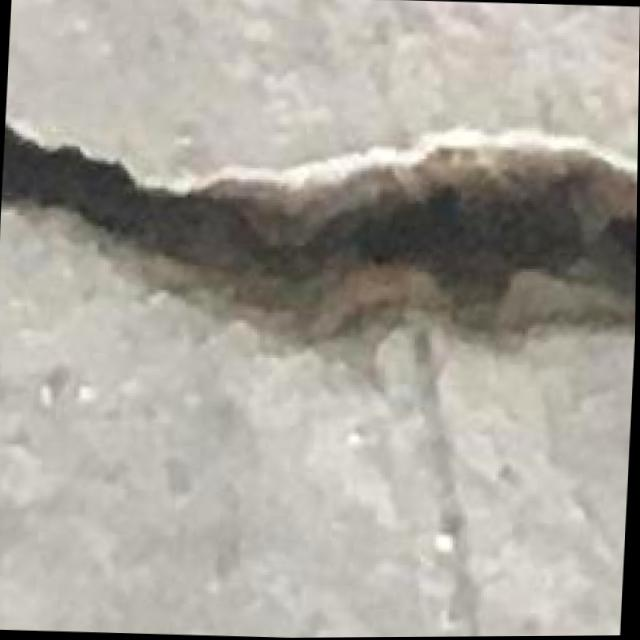Crack: (0, 86, 639, 355)
